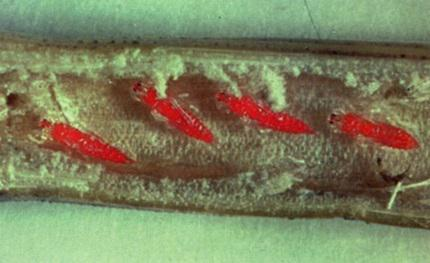tiny_pests: (212, 79, 314, 149), (31, 111, 140, 170), (325, 101, 430, 162), (133, 76, 211, 151)
